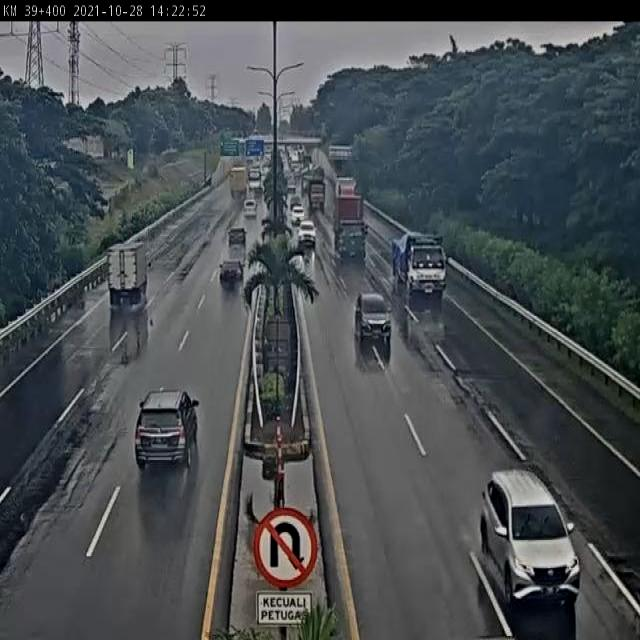Bus: (247, 167, 263, 191)
Car: (482, 470, 581, 604), (133, 392, 200, 470), (356, 291, 392, 341), (217, 259, 245, 284), (296, 220, 318, 246), (226, 228, 248, 248), (291, 205, 305, 224)
Truck: (392, 230, 451, 298), (106, 238, 152, 302), (331, 189, 369, 259), (332, 175, 361, 199), (308, 179, 325, 210), (299, 167, 316, 198), (230, 166, 248, 195)
Van: (243, 199, 257, 218)
